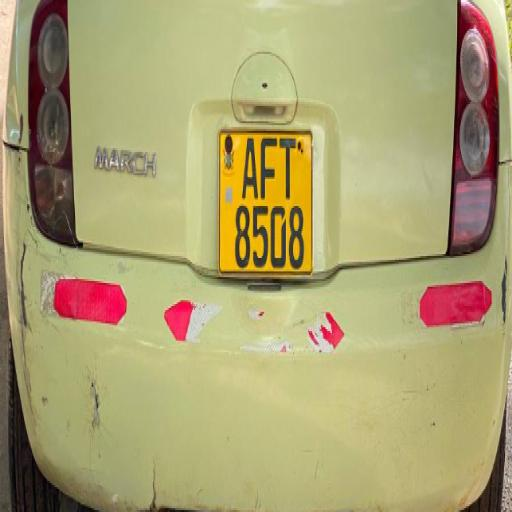number-plates: (222, 130, 311, 279)
